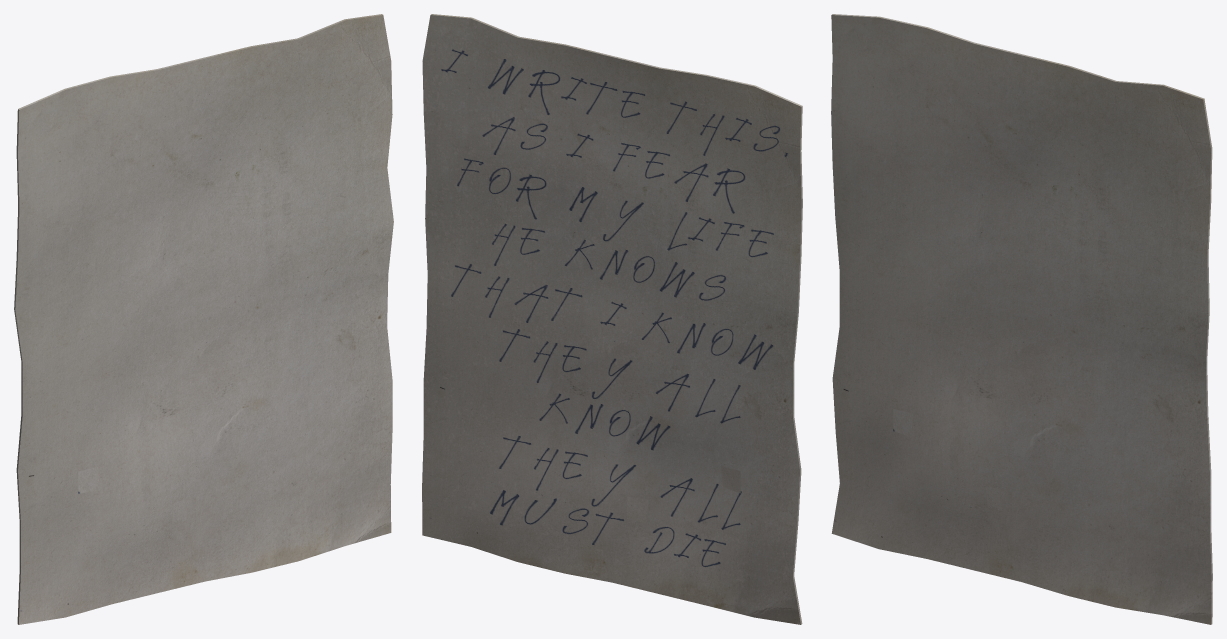
The model's file is NoteFinal.fbx.
3 renders of one model, left to right at view 1: azimuth 30°, elevation 25°; view 2: azimuth 150°, elevation 25°; view 3: azimuth 330°, elevation 25°, orthographic.
Visible parts, largest first — view 1: Note; view 2: Note; view 3: Note.
Boxes of the visible parts, x1,y1,x2,y2 form: Note: (14, 14, 393, 624); Note: (422, 14, 802, 624); Note: (831, 14, 1212, 624).
Size of the model in its own units: 23.46 by 31.69 by 0.9146.
Materials: 2 (2 with a texture image).
